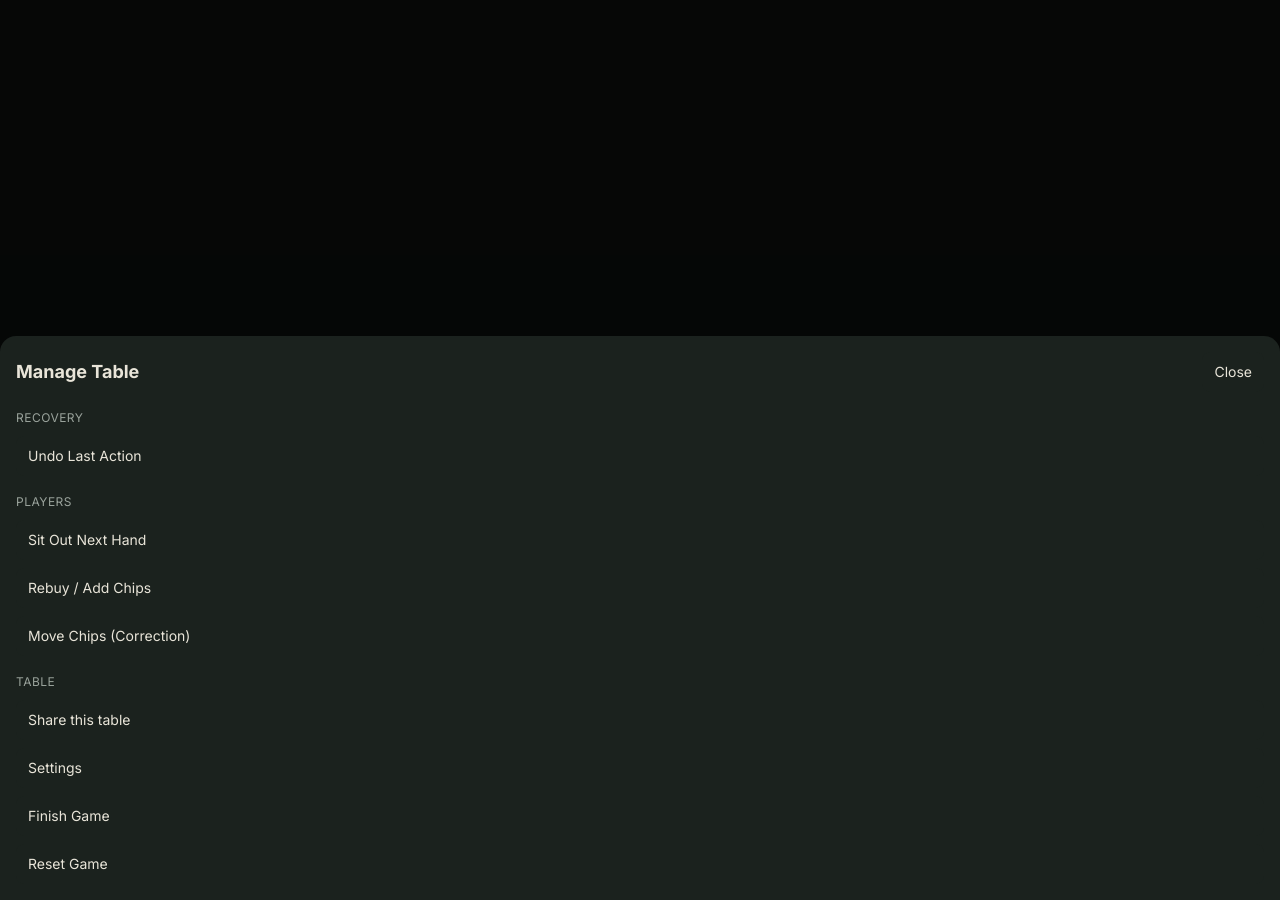
Scenario: rebuy › disables Review Rebuy with a reason when the amount is invalid
Click the button "Rebuy / Add Chips". click: (90, 588)
box: [16, 568, 1264, 608]
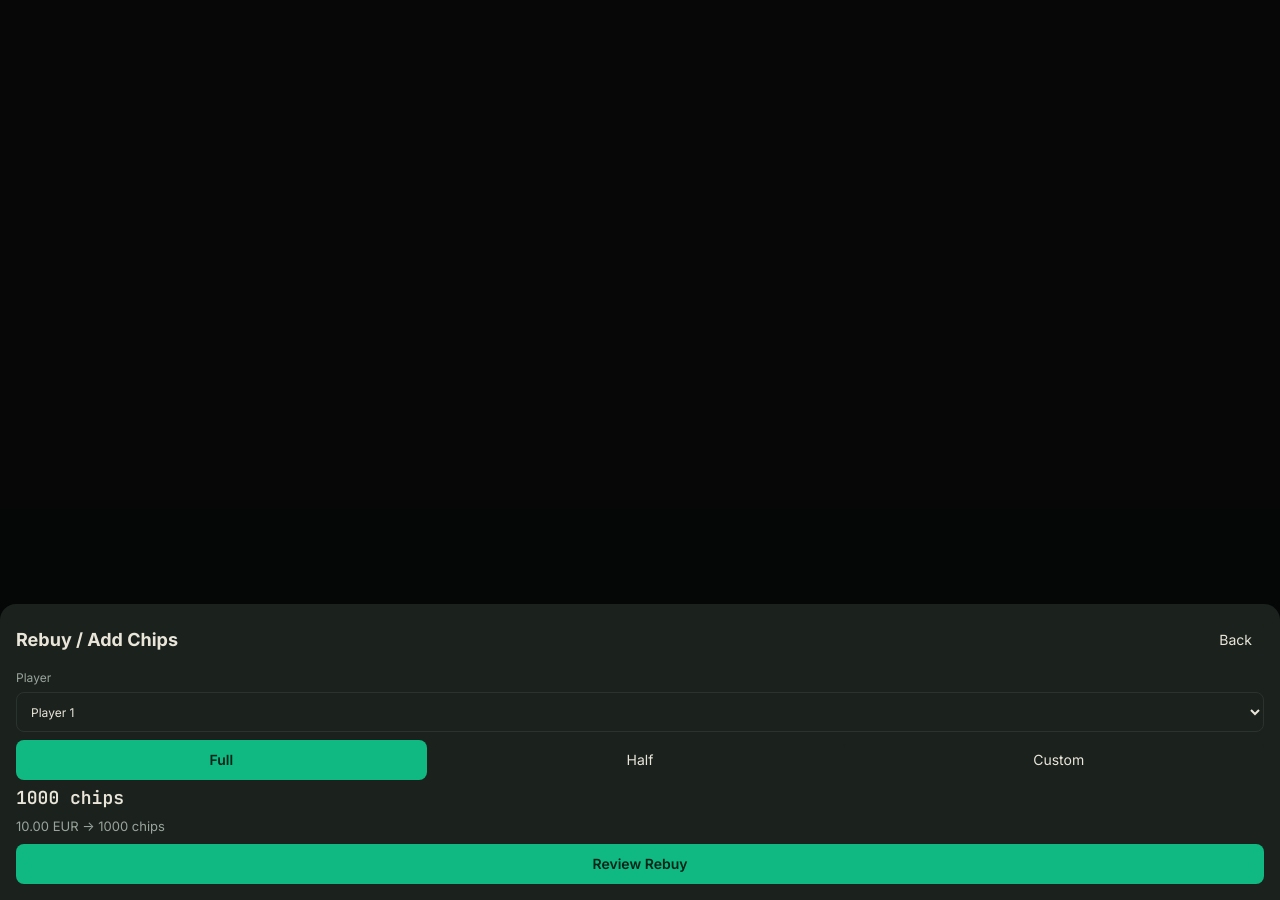
Click the button "Custom". click: (1059, 760)
box: [853, 740, 1264, 780]
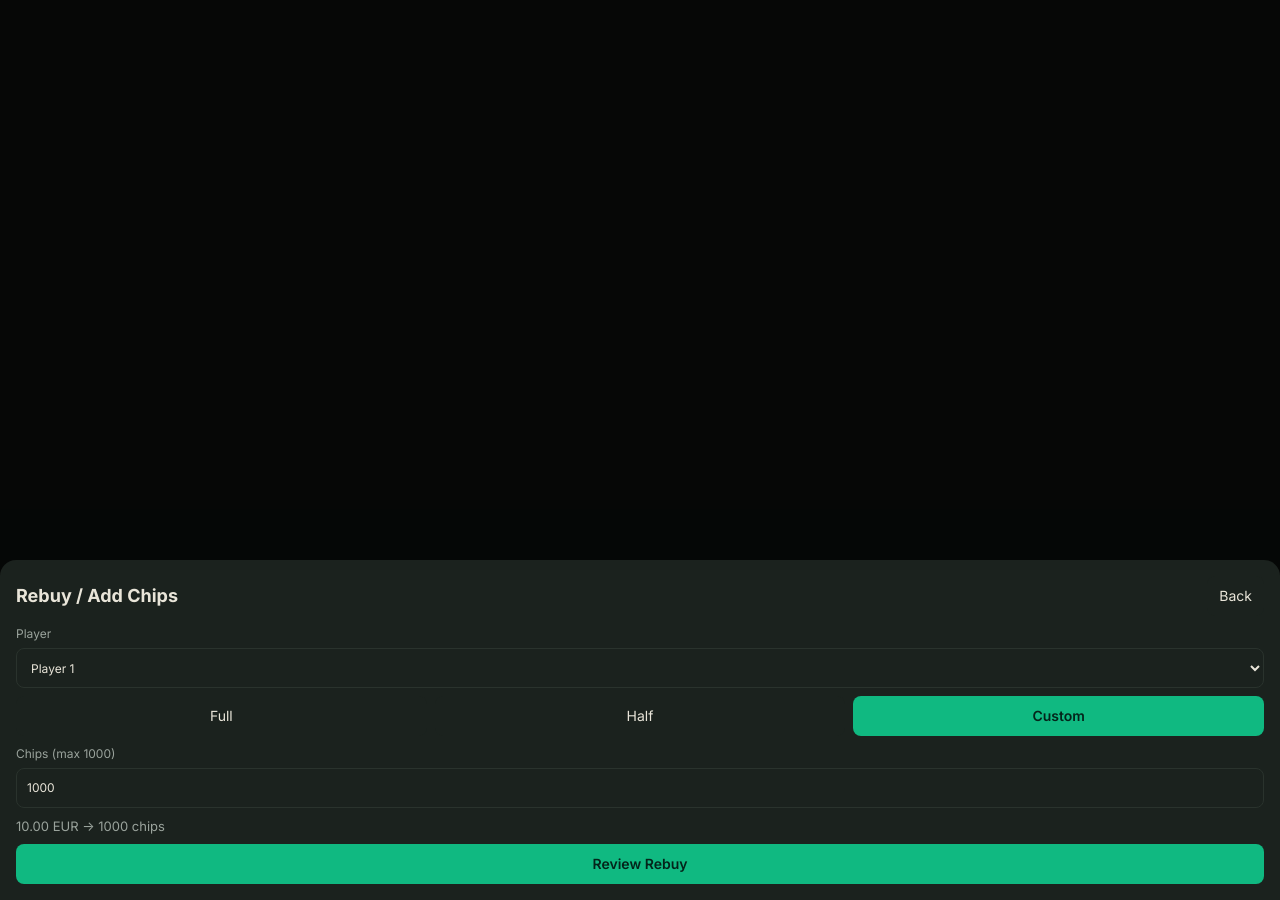
Replace the text in the number field labelled "Chips (max 1000)" with "0". click: (640, 788)
box: [16, 768, 1264, 808]
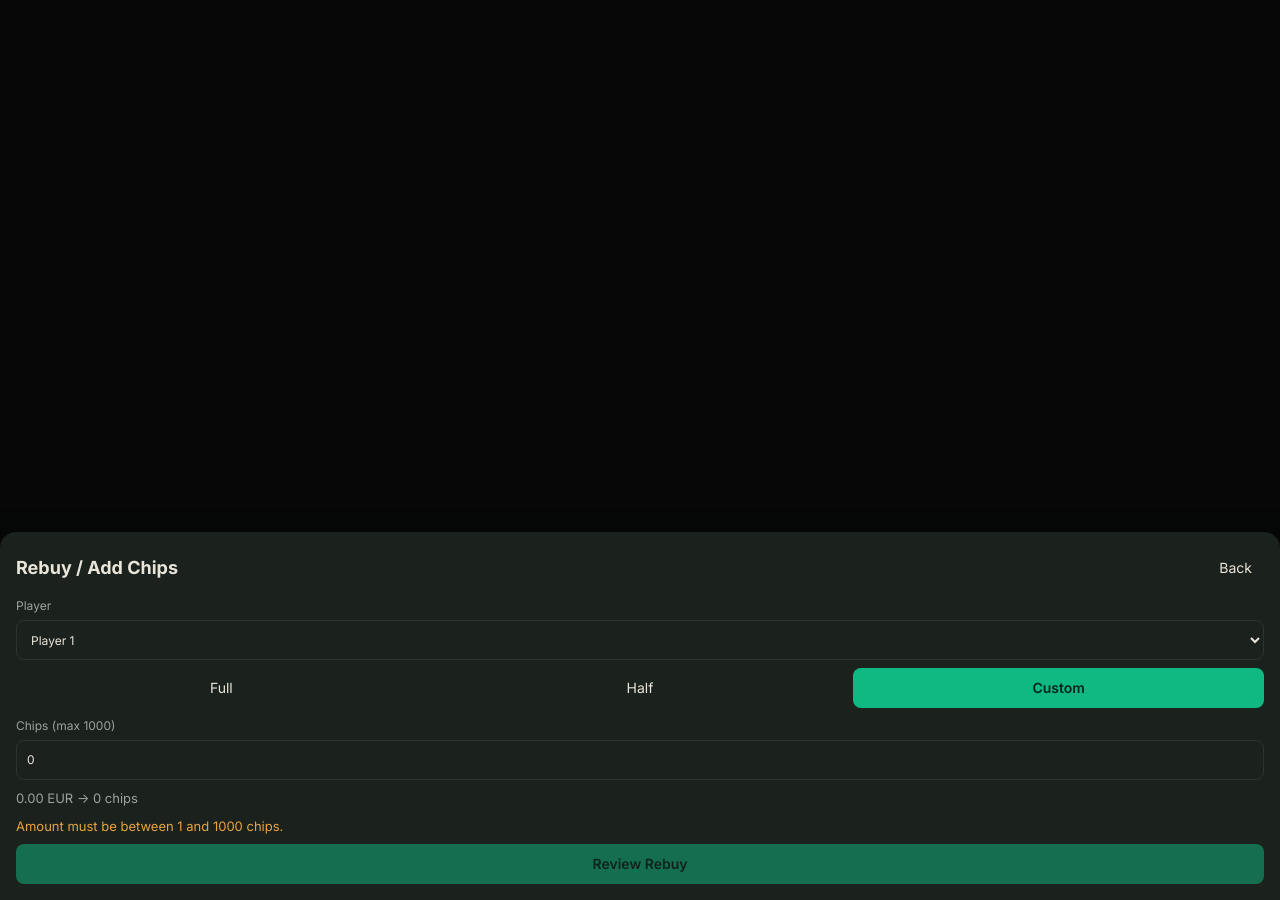
Check: the button "Review Rebuy" is disabled, box [16, 844, 1264, 884]
Check: the text "Amount must be between 1 and 1000 chips." is shown, box [16, 818, 283, 834]
